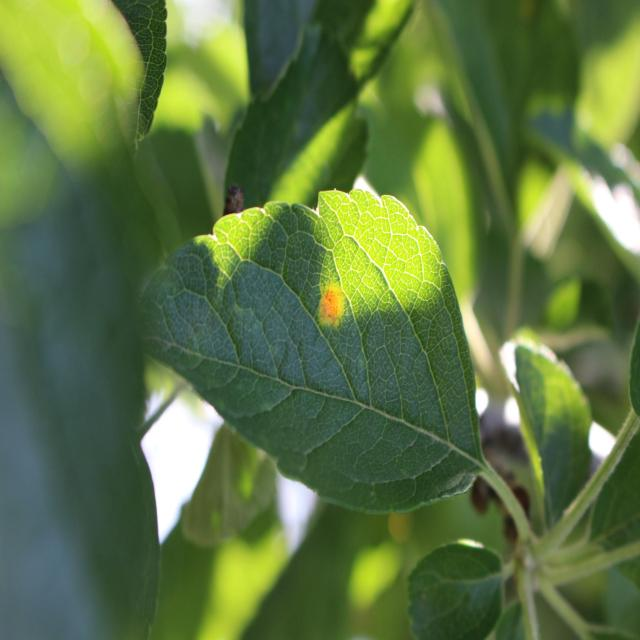Rust: (302, 274, 355, 339)
